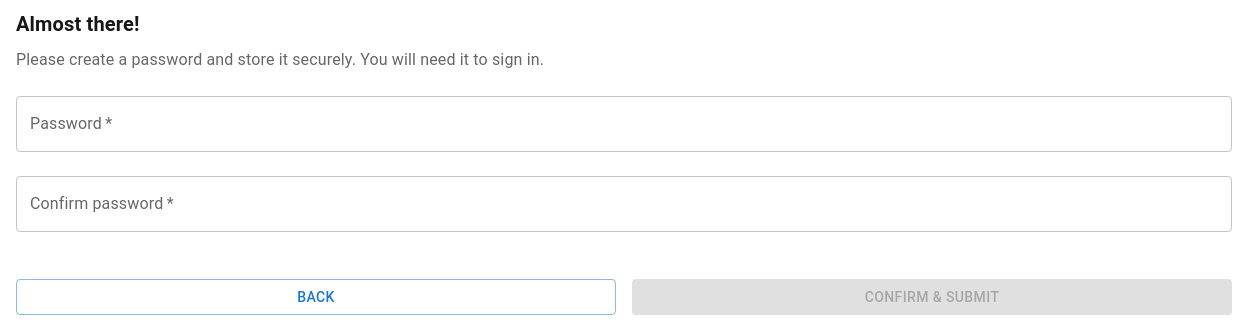
Test: PasswordForm › disables continue until passwords match
The image size is (1250, 335).
Expected: the button "Confirm & Submit" is disabled, [632,279,1232,315]
Type "Secret123!" into the password field labelled "Password *" at (624, 124), box [16,96,1232,152]
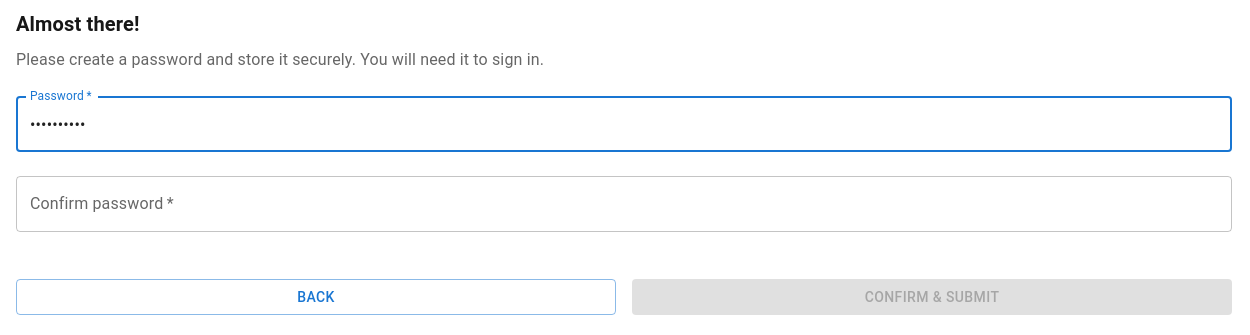
Type "Secret123!" into the password field labelled "Confirm password *" at (624, 204), box [16,176,1232,232]
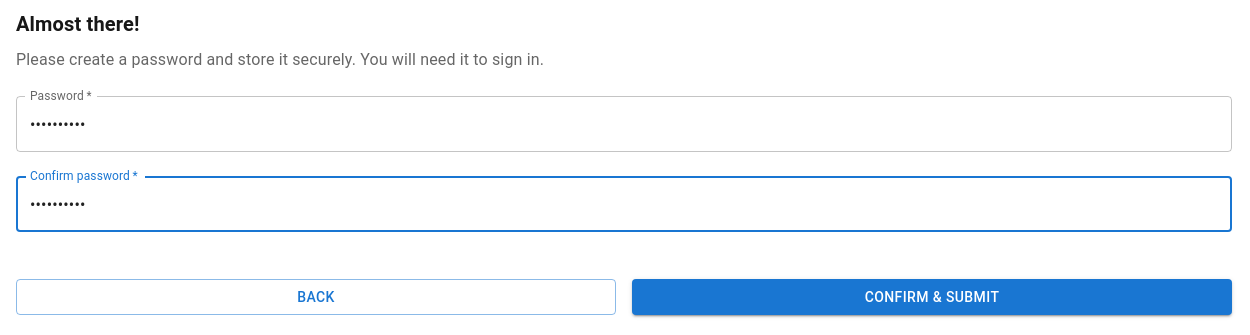
Expected: the button "Confirm & Submit" is enabled, [632,279,1232,315]
